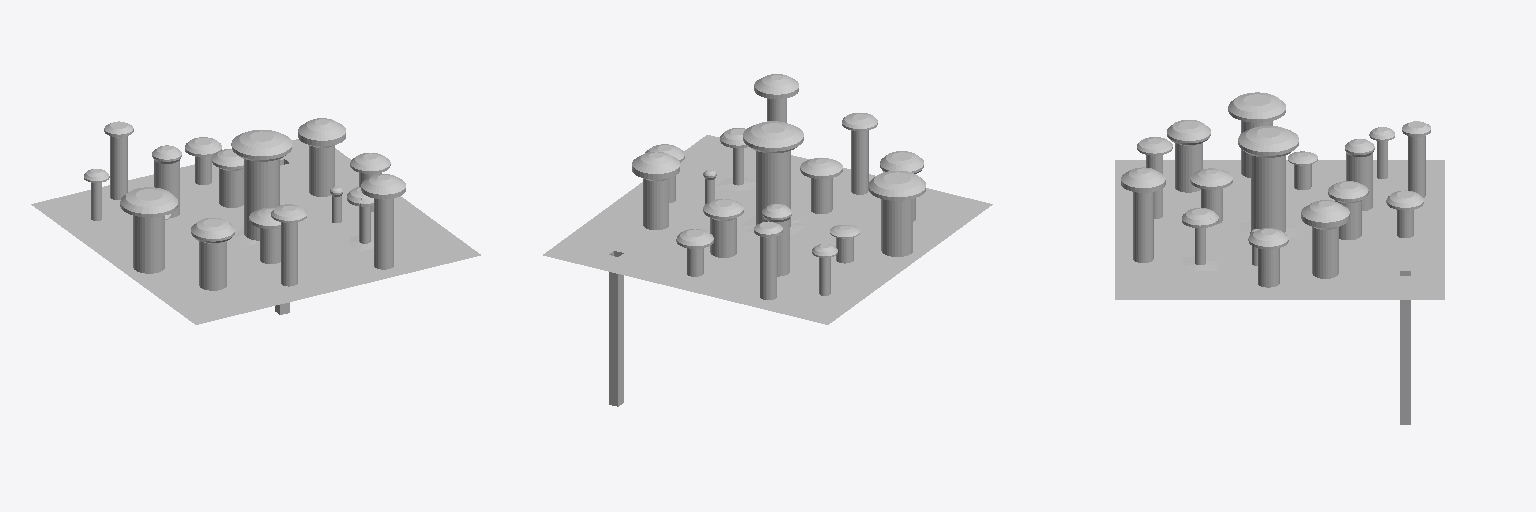
Rendered from mountainLandscape.obj.
3 renders of one model, left to right at view 1: azimuth 30°, elevation 25°; view 2: azimuth 150°, elevation 25°; view 3: azimuth 270°, elevation 25°, orthographic.
Visible parts, largest first — view 1: Grid_Grid.001; view 2: Grid_Grid.001; view 3: Grid_Grid.001.
Boxes of the visible parts, x1,y1,x2,y2 form: Grid_Grid.001: [31, 118, 480, 324]; Grid_Grid.001: [543, 74, 992, 406]; Grid_Grid.001: [1115, 92, 1444, 424].
Size of the model in its own units: 2 by 1.65 by 2.